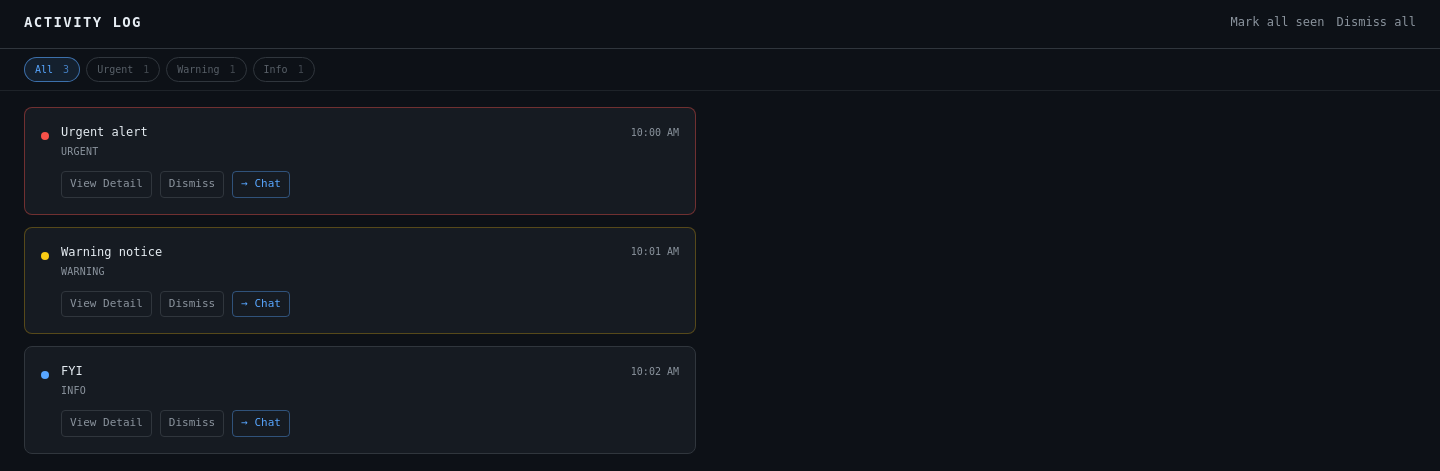
Test case: InboxView – severity filter chips › clicking Info chip filters visible list to info only
Click the button "Info 1": (284, 70) x1=252 y1=57 x2=315 y2=82
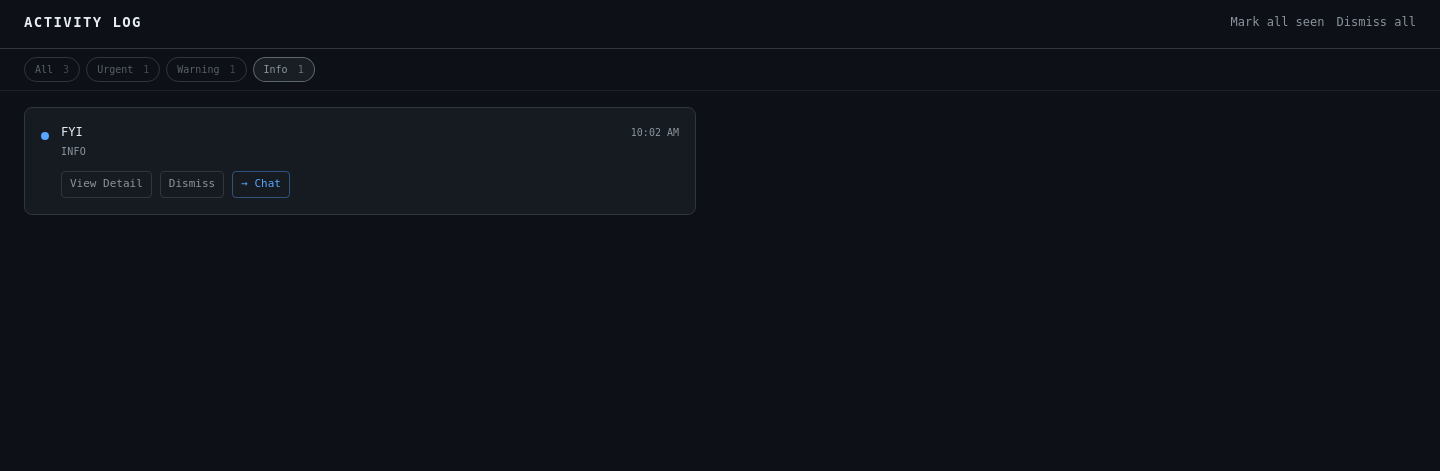
Check: the number of elements with test id "notification-item" is 1, box x1=24 y1=107 x2=696 y2=214
